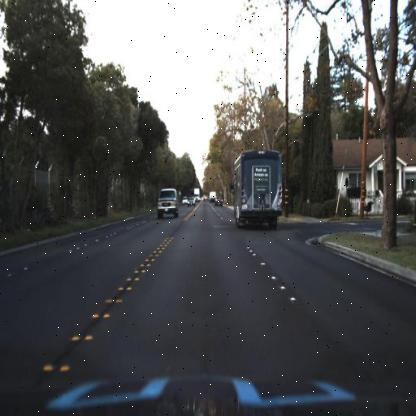car: (153, 181, 180, 223), (156, 186, 182, 218), (211, 190, 227, 211), (185, 194, 196, 209)
truck: (232, 150, 284, 231)
